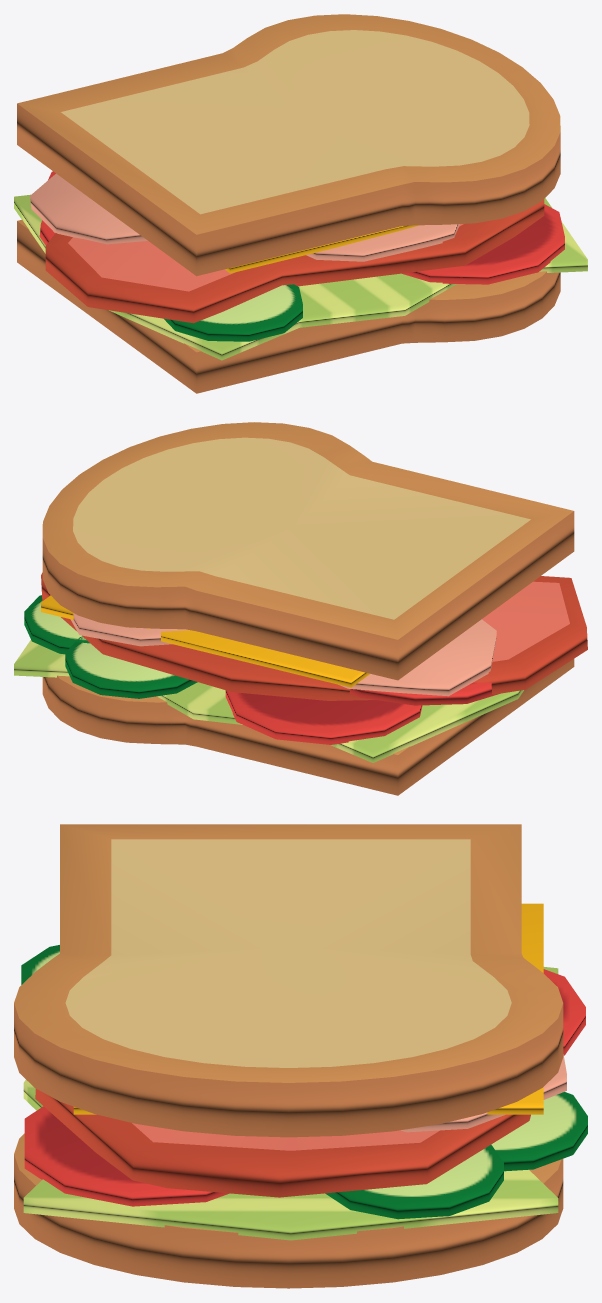
File: sandwich3.fbx
3 views of the same model, one above another, from view 1: azimuth 30°, elevation 25°; view 2: azimuth 150°, elevation 25°; view 3: azimuth 270°, elevation 25° (orthographic). The views are drawn at different scales.
Visible parts, largest first — view 1: PAO; view 2: PAO; view 3: PAO.
Boxes of the visible parts, x1,y1,x2,y2 form: PAO: [14, 14, 587, 393]; PAO: [14, 422, 587, 795]; PAO: [14, 824, 587, 1288].
Size of the model in its own units: 784 by 246 by 617.
